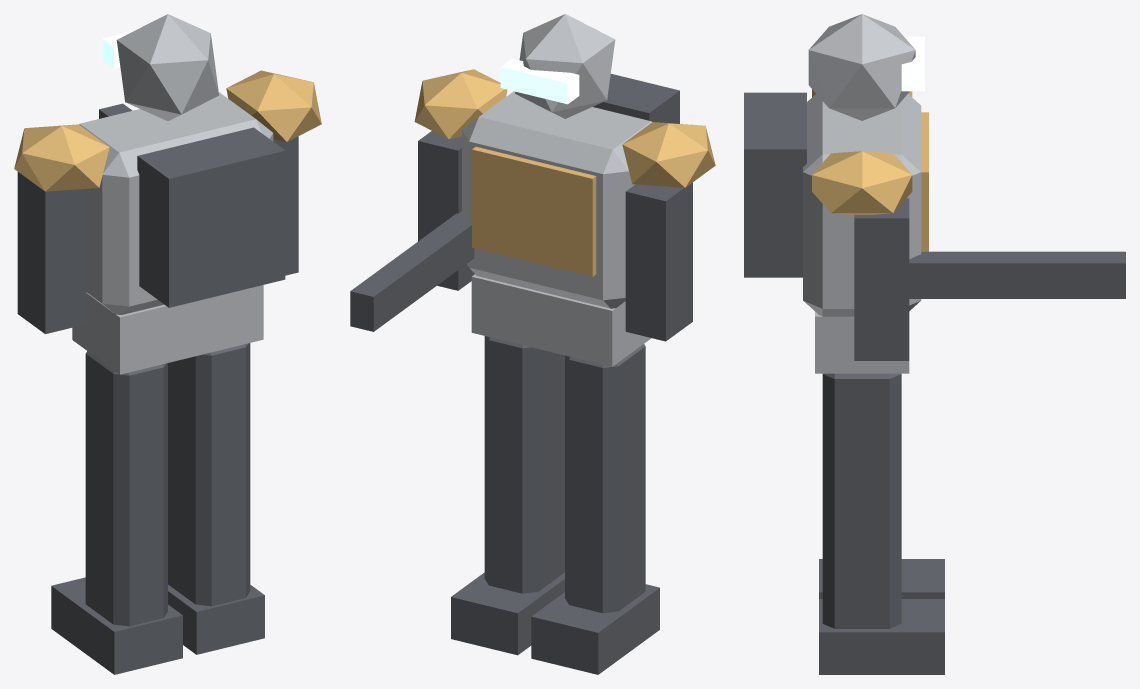
File: rifleman.glb
3 views of the same model, side by side, from view 1: azimuth 30°, elevation 25°; view 2: azimuth 150°, elevation 25°; view 3: azimuth 270°, elevation 25° (orthographic). The views are drawn at different scales.
Parts seen in each view (by area): view 1: leg; view 2: leg; view 3: leg.
Boxes of the visible parts, x1,y1,x2,y2 form: leg: [14, 14, 321, 674]; leg: [350, 14, 715, 674]; leg: [744, 14, 1125, 674].
Bounding box in the file's own units: 0.3654 × 0.75 × 0.4157.
